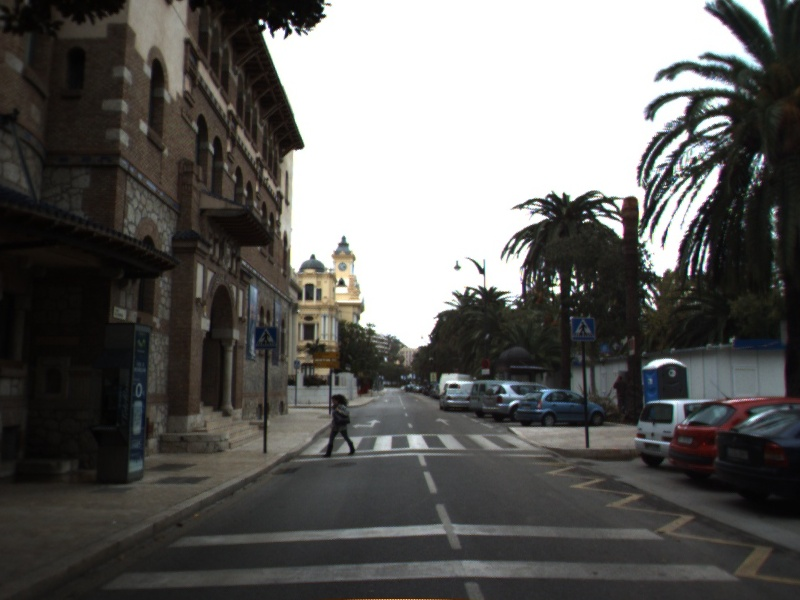STRAIGHT: (433, 415, 453, 428)
STRAIGHT_LEFT: (350, 418, 383, 431)
